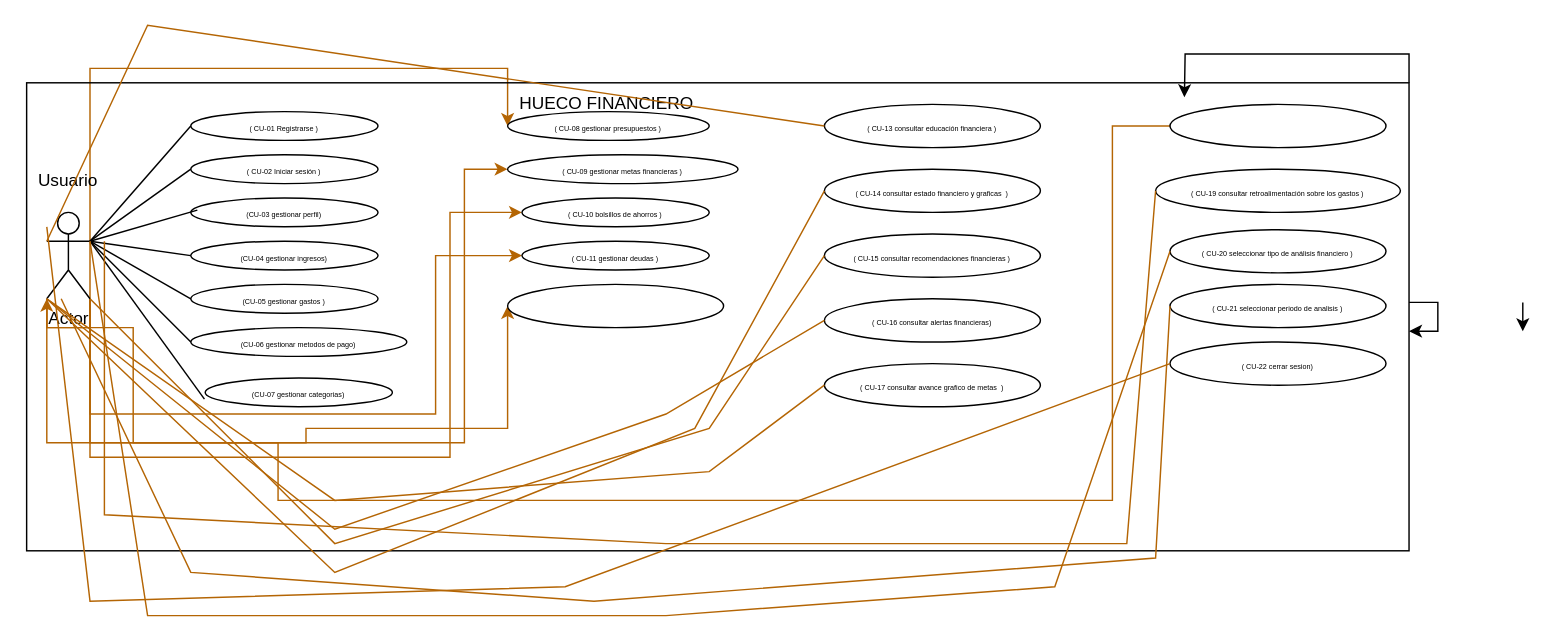
Some shapes in this 1560 by 642 pixel diagram are drawn without their labels. The shapes that lost their labels are listed below. From the top down, each one's centre as x and y in pixels, then its label:
At point 1277,125: "( CU-18 utilizar el asistente virtual )".
At point 615,305: "( CU-12 consultar informacion de inversiones )".
